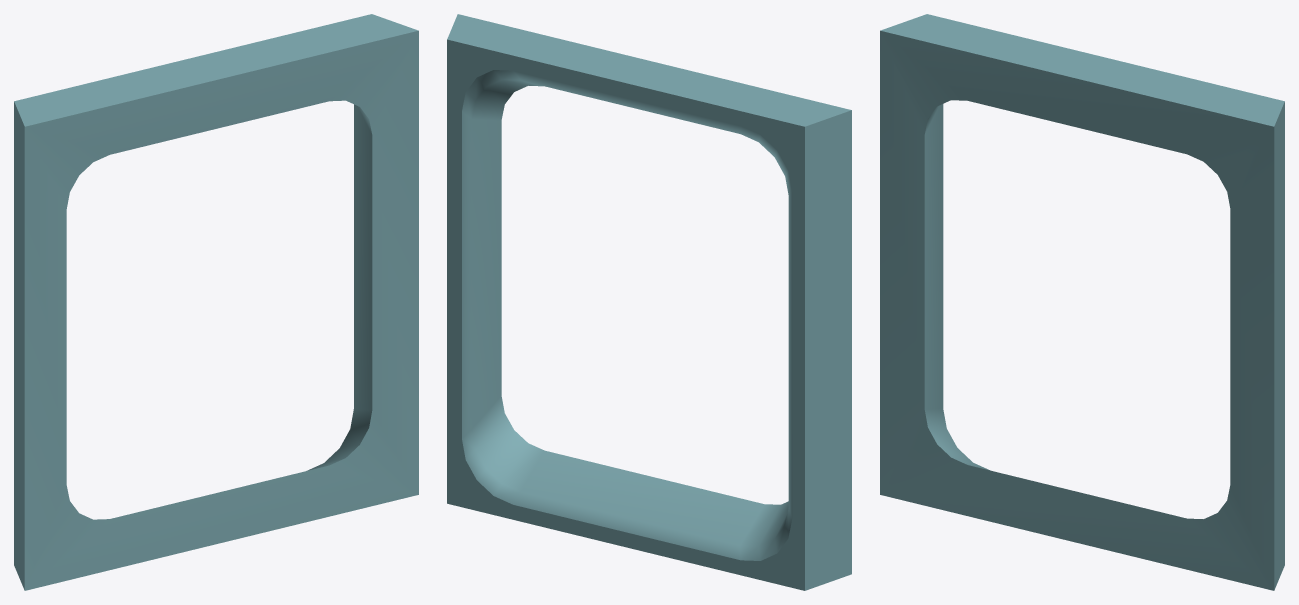
Rendered from wall_window_large.fbx.
3 renders of one model, left to right at view 1: azimuth 30°, elevation 25°; view 2: azimuth 150°, elevation 25°; view 3: azimuth 330°, elevation 25°, orthographic.
Parts seen in each view (by area): view 1: wall_window_large; view 2: wall_window_large; view 3: wall_window_large.
Boxes of the visible parts, x1=… form: wall_window_large: x1=14, y1=14, x2=418, y2=590; wall_window_large: x1=447, y1=14, x2=851, y2=590; wall_window_large: x1=880, y1=14, x2=1284, y2=590.
Bounding box in the file's own units: 684 × 770 × 86.6.
